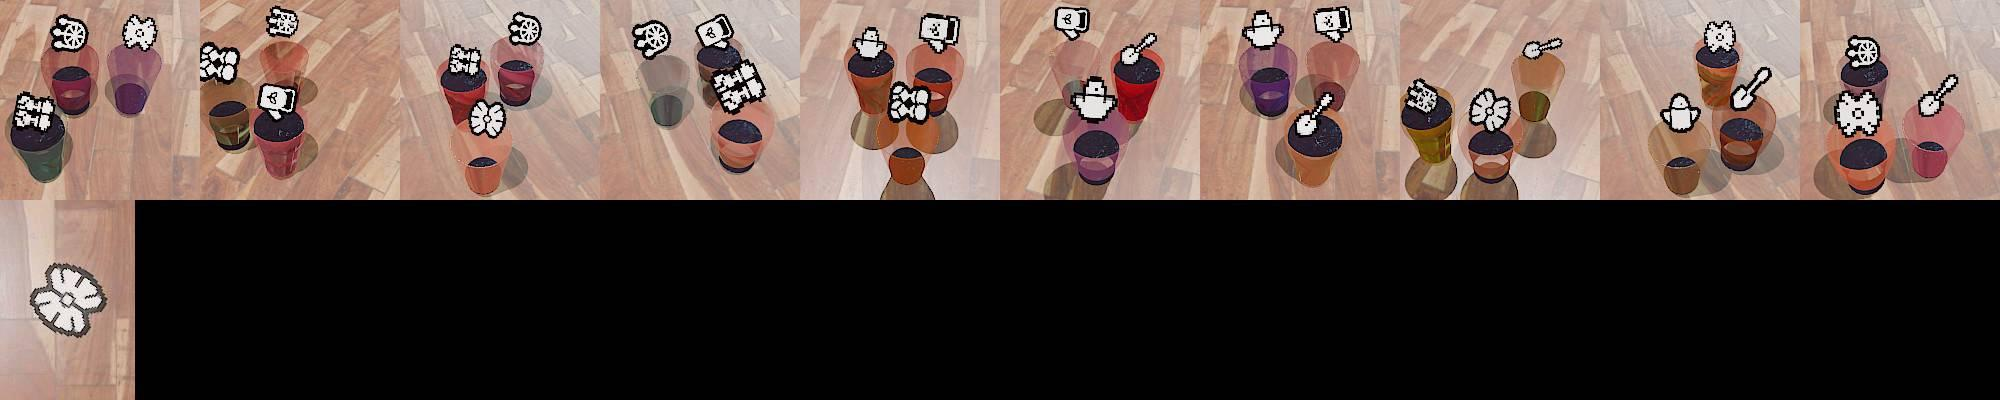icon: (29, 261, 108, 338), (709, 59, 767, 115), (1832, 88, 1883, 139), (1070, 74, 1120, 121), (1467, 87, 1513, 134), (886, 80, 934, 125), (1295, 89, 1335, 139), (11, 92, 57, 134), (1918, 73, 1960, 117), (1731, 65, 1772, 111), (1242, 9, 1286, 51), (1659, 90, 1702, 132), (917, 13, 960, 54), (199, 42, 240, 84), (631, 19, 672, 60), (467, 98, 506, 139), (694, 14, 736, 52), (50, 14, 89, 54), (1311, 5, 1352, 43), (258, 82, 298, 118), (1052, 5, 1091, 43), (1406, 76, 1443, 115), (1702, 19, 1737, 56), (852, 25, 889, 61), (446, 45, 485, 79), (1120, 32, 1157, 66), (121, 14, 156, 51), (264, 5, 300, 39), (508, 11, 542, 46), (1844, 36, 1880, 69), (1522, 36, 1561, 60)
